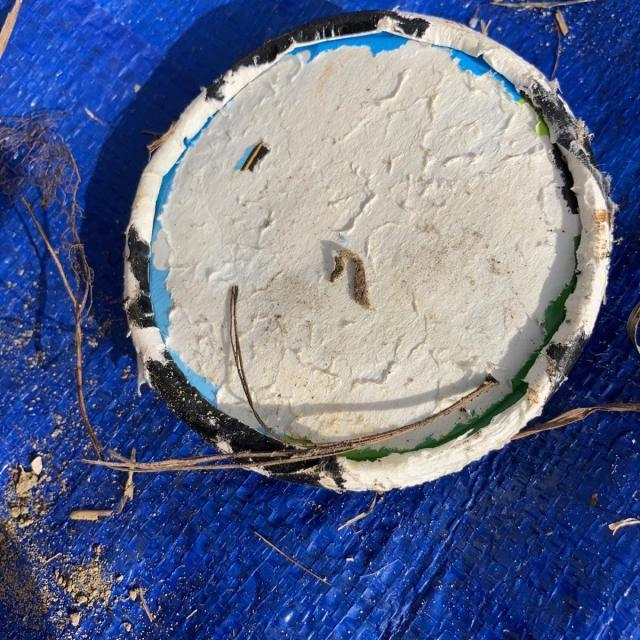Paper: (115, 1, 618, 502)
